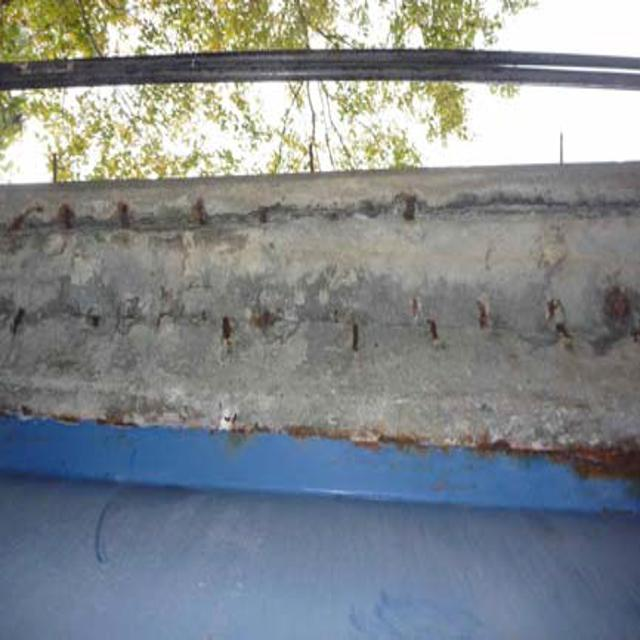corrosion: (27, 381, 640, 490)
